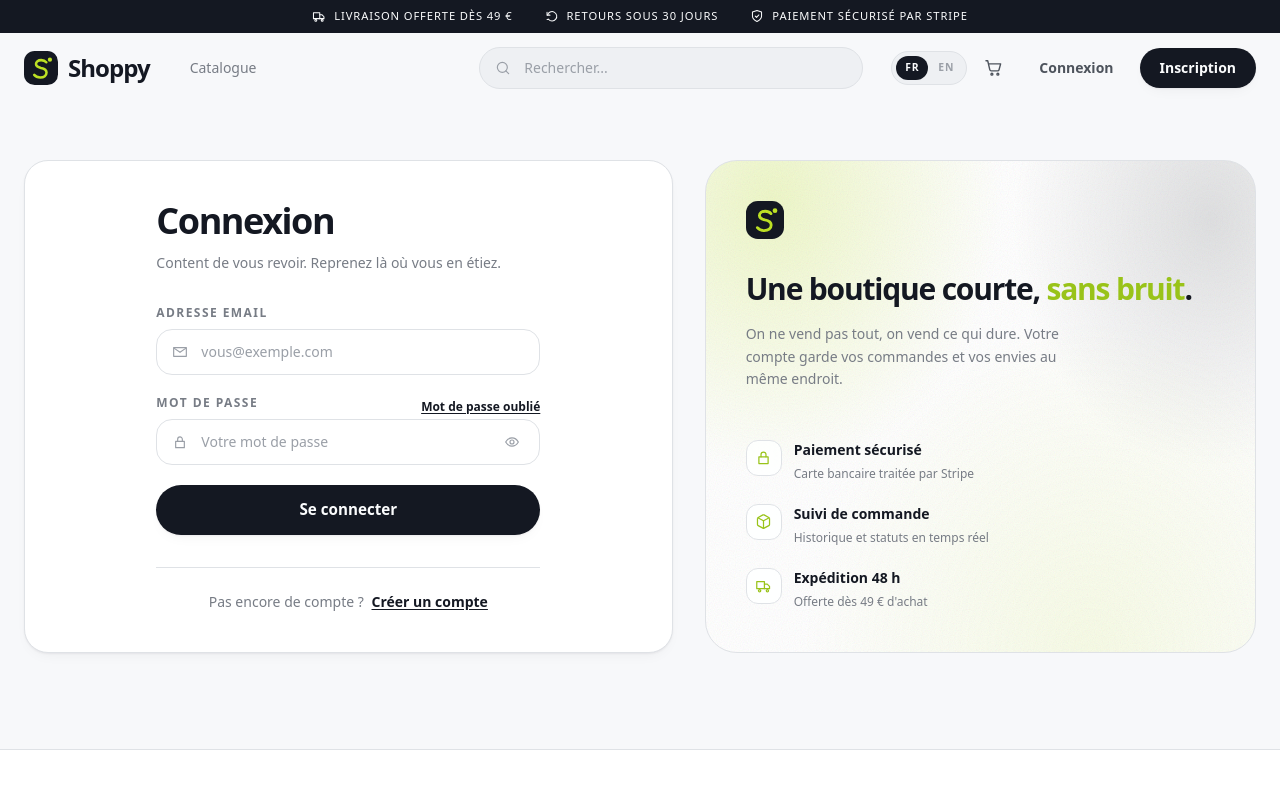
Scenario: LoginPage › shows an invalid credentials error
Type "visitor@shoppy.test" into the field labelled "Adresse email" at (348, 352), box [156,329,540,375]
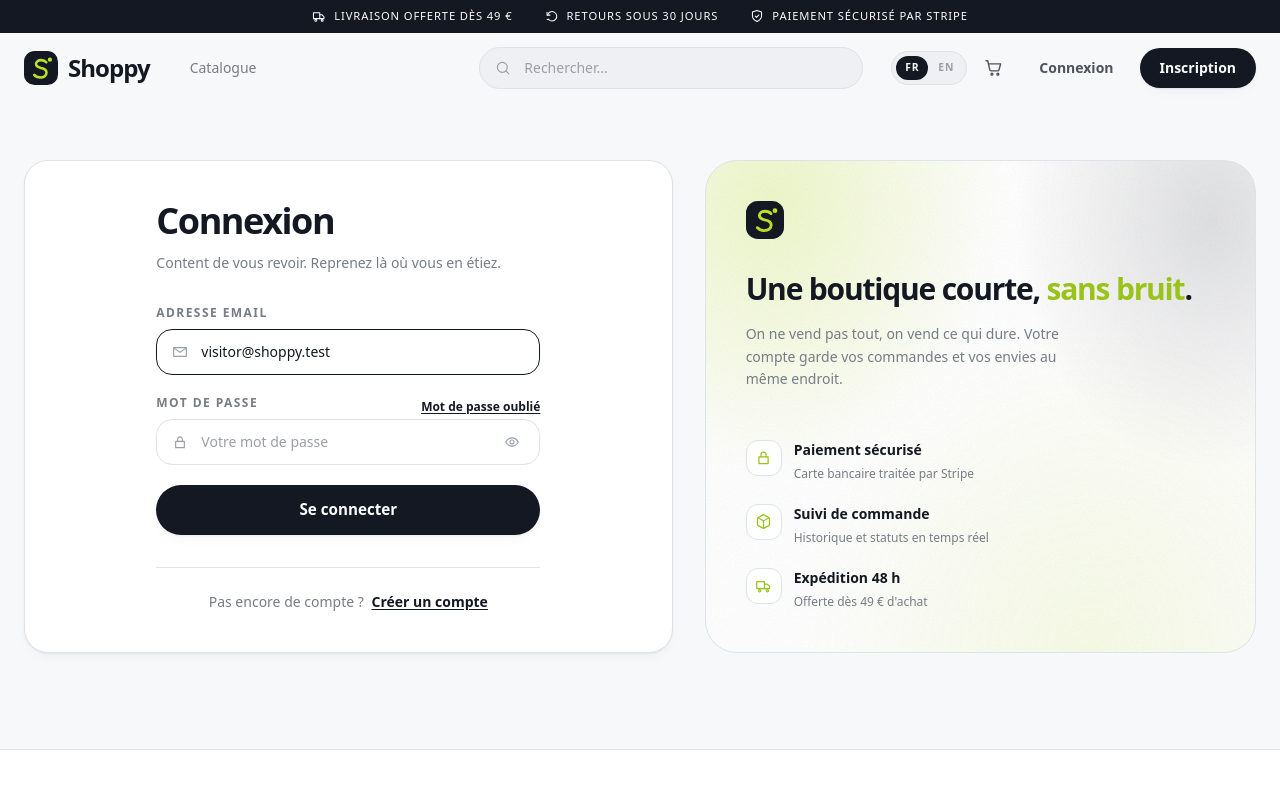
Type "password123" into the password field labelled "Mot de passe" at (348, 442), box [156,419,540,465]
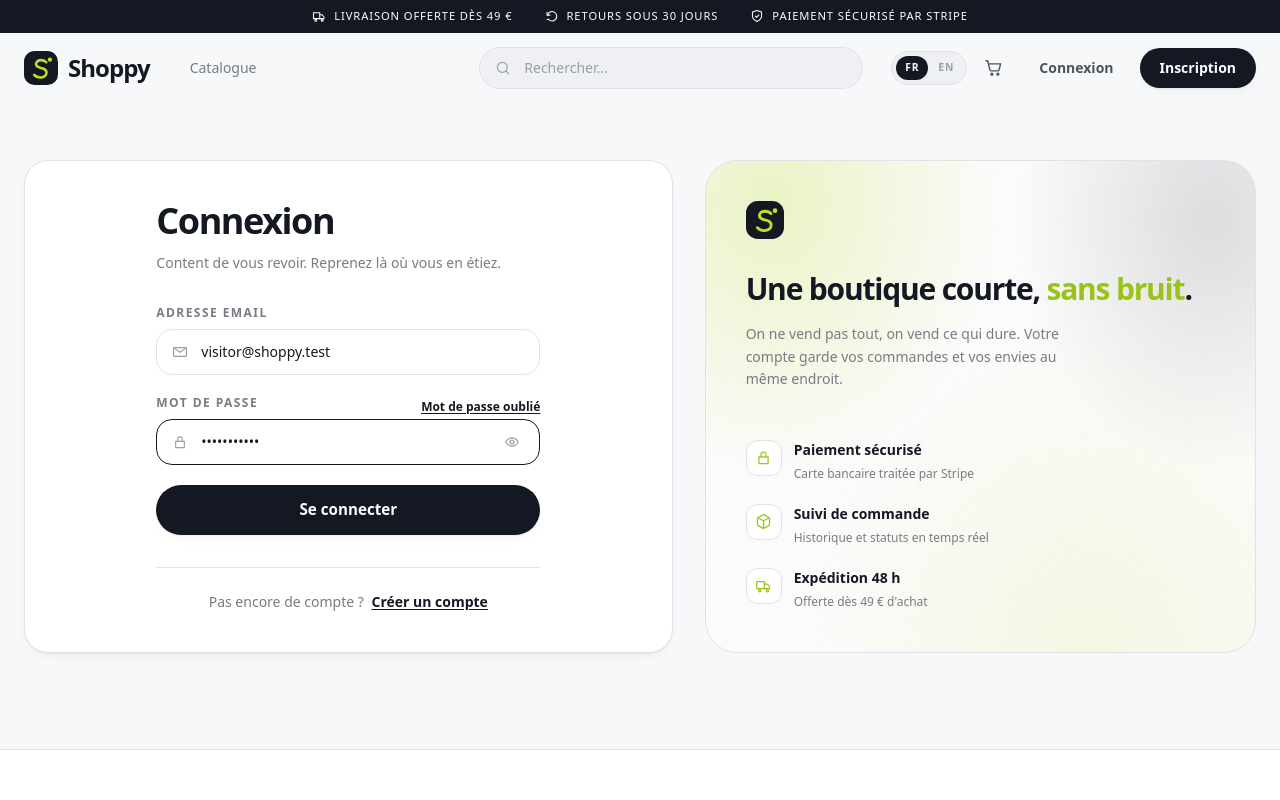
Click the button "Se connecter" at (348, 510), box [156,485,540,534]
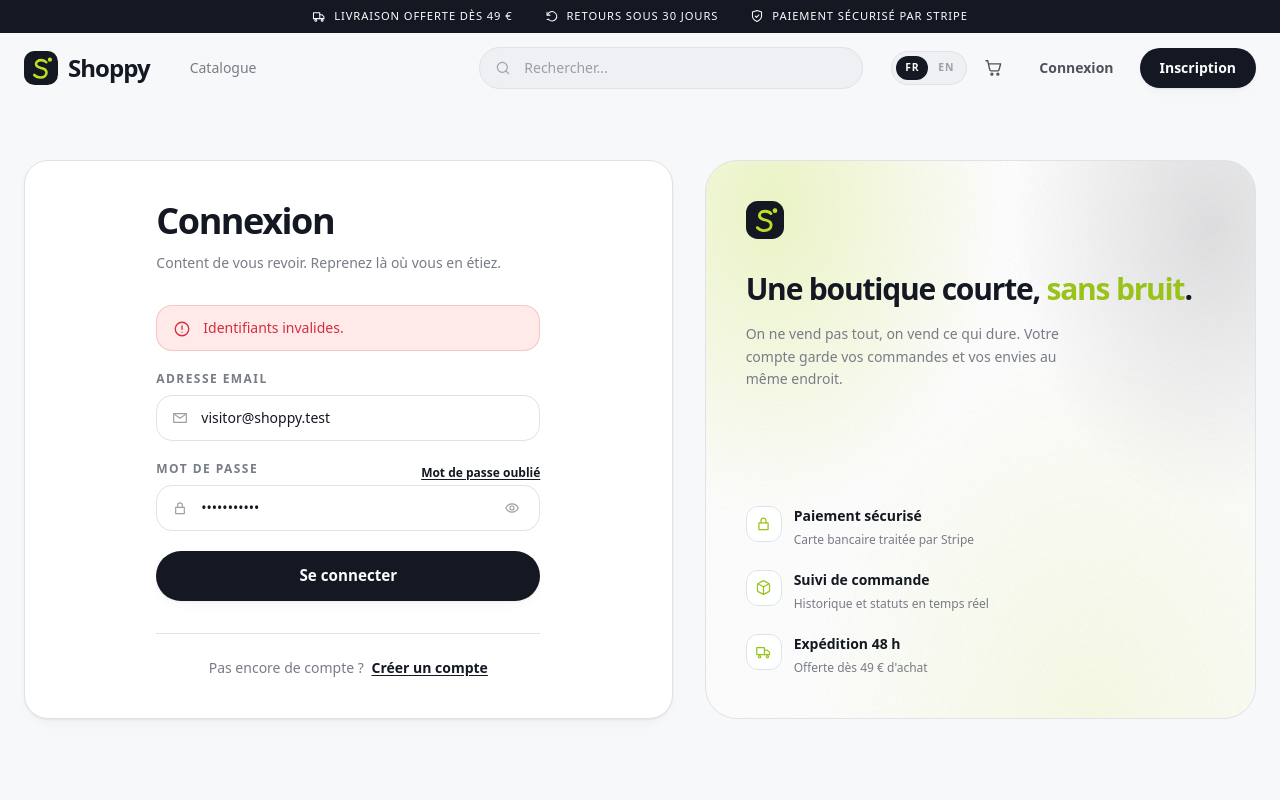
expect the message reads "Identifiants invalides.": met, box [203,318,344,337]
